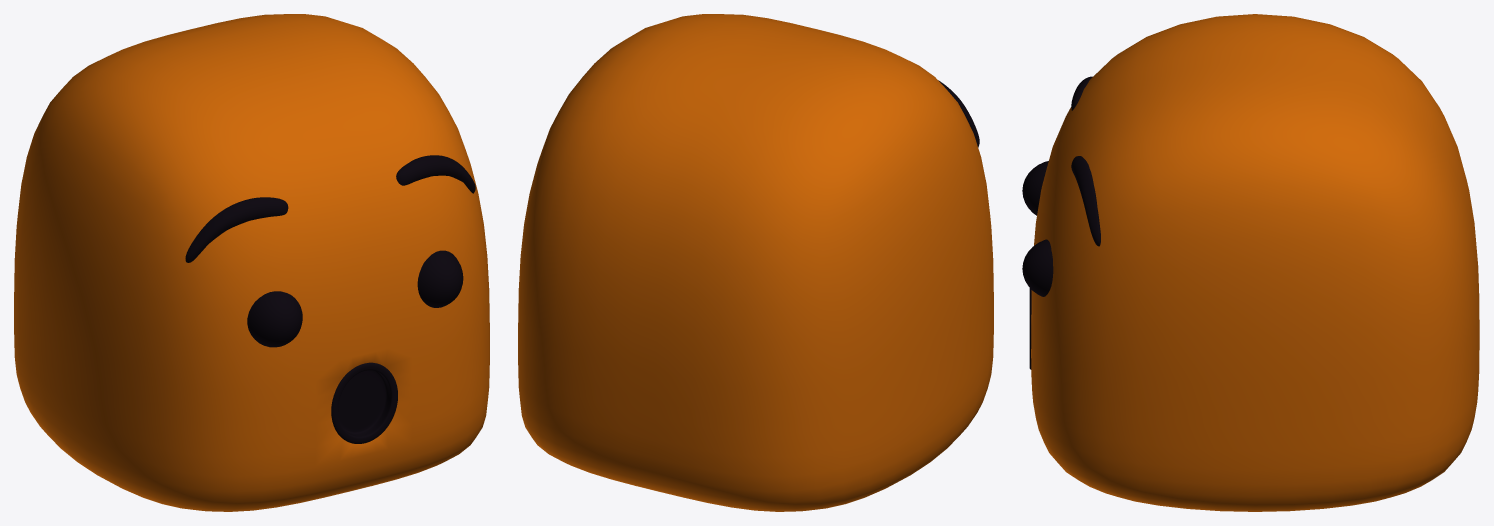
File: Emoji 080 hushed face.fbx
3 views of the same model, side by side, from view 1: azimuth 30°, elevation 25°; view 2: azimuth 150°, elevation 25°; view 3: azimuth 270°, elevation 25° (orthographic).
Visible parts, largest first — view 1: Emoji 080 hushed face, Eyes.066, Cylinder.018, Cube.088; view 2: Emoji 080 hushed face; view 3: Emoji 080 hushed face, Eyes.066, Cube.088.
Boxes of the visible parts, box(x1,y1,x2,y2) form: Emoji 080 hushed face: box(14, 14, 489, 511); Eyes.066: box(247, 250, 463, 347); Cylinder.018: box(331, 362, 397, 443); Cube.088: box(185, 155, 475, 262); Emoji 080 hushed face: box(518, 14, 993, 511); Emoji 080 hushed face: box(1031, 14, 1479, 511); Eyes.066: box(1022, 161, 1053, 296); Cube.088: box(1071, 76, 1100, 246).
Bounding box in the file's own units: 95.83 × 102 × 95.83.
